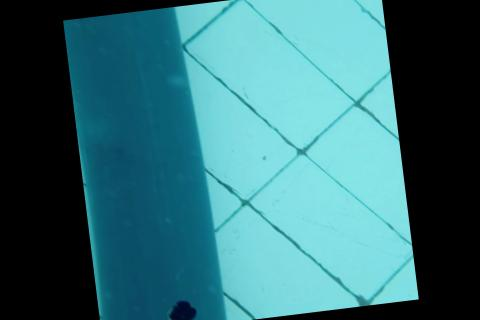kebocoran: (163, 298, 198, 320)
